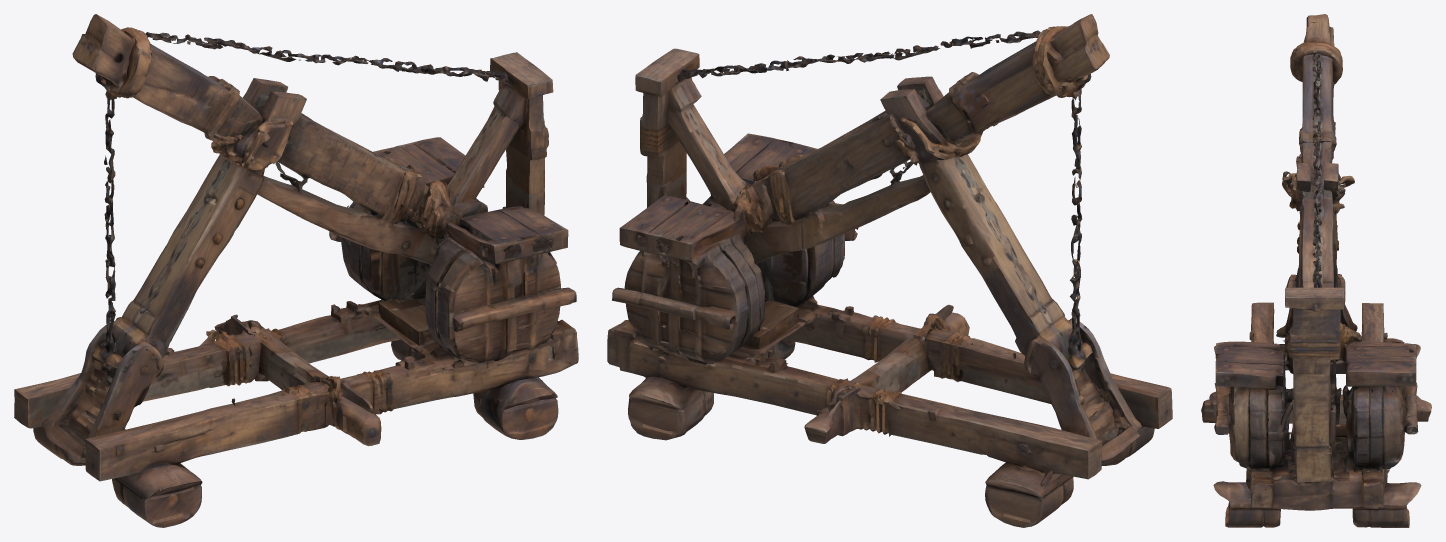
The model's file is trebuchet__trebuchet-triumph.glb.
3 views of the same model, side by side, from view 1: azimuth 30°, elevation 25°; view 2: azimuth 150°, elevation 25°; view 3: azimuth 270°, elevation 25° (orthographic). The views are drawn at different scales.
Bounding box in the file's own units: 1.98 × 1.84 × 1.05.
Materials: 1 (1 with a texture image).
